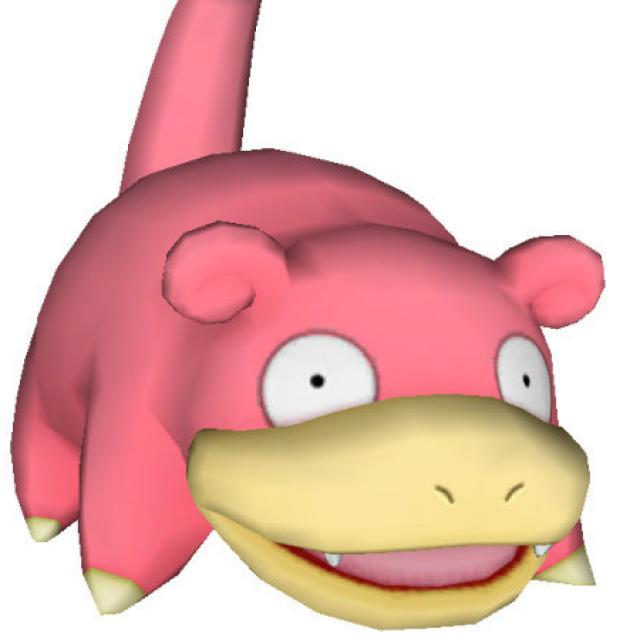Slowpoke: (0, 101, 640, 640)
